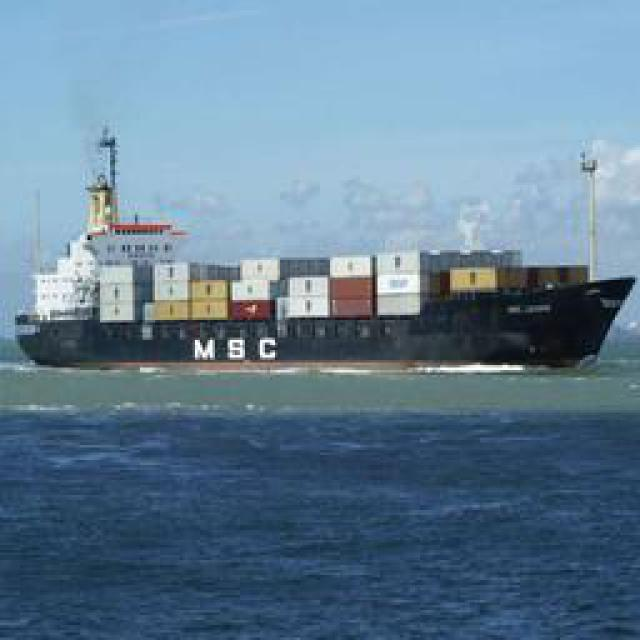Ship: (4, 205, 634, 368)
